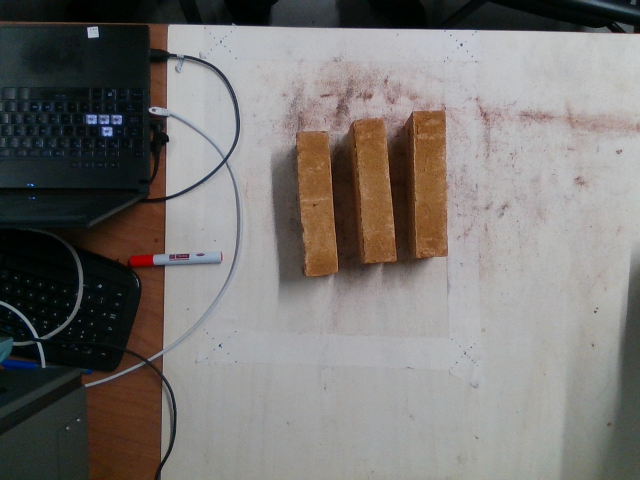brick-side: (354, 120, 395, 263), (297, 131, 334, 273), (414, 114, 444, 255)
